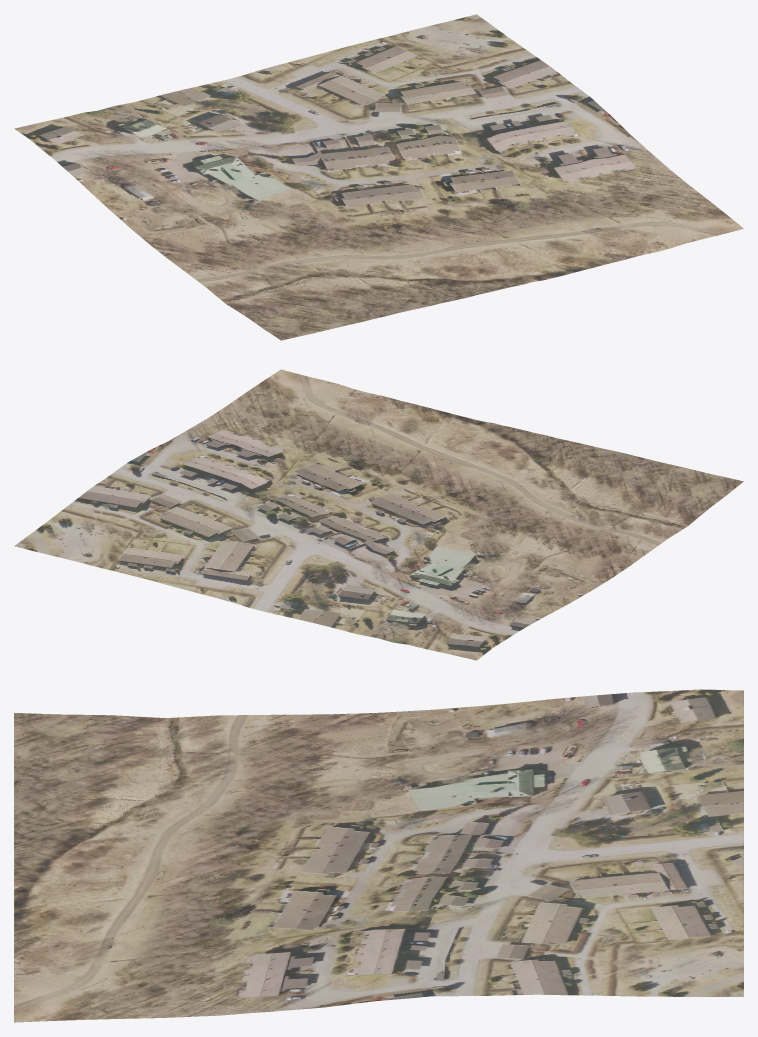
File: CM_Terrain_24491073_6819999.fbx
3 views of the same model, one above another, from view 1: azimuth 30°, elevation 25°; view 2: azimuth 150°, elevation 25°; view 3: azimuth 270°, elevation 25° (orthographic). The views are drawn at different scales.
Parts seen in each view (by area): view 1: CM_Terrain_24491073_6819999_LOD0; view 2: CM_Terrain_24491073_6819999_LOD0; view 3: CM_Terrain_24491073_6819999_LOD0.
Part boxes in pixels (box(x1,y1,x2,y2)): CM_Terrain_24491073_6819999_LOD0: box(14, 14, 743, 340); CM_Terrain_24491073_6819999_LOD0: box(14, 369, 743, 660); CM_Terrain_24491073_6819999_LOD0: box(14, 689, 743, 1022).
Size of what is drawn, in the model's own units: 205 by 10 by 205.
